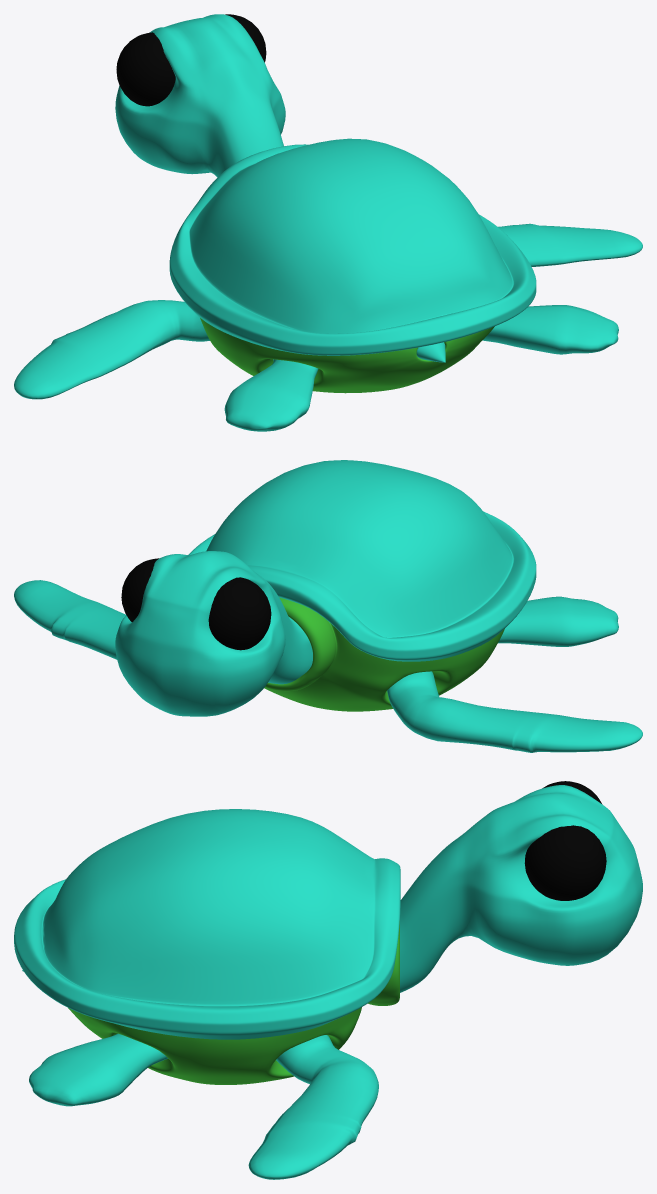
Rendered from tortuguita.fbx.
3 views of the same model, one above another, from view 1: azimuth 30°, elevation 25°; view 2: azimuth 150°, elevation 25°; view 3: azimuth 270°, elevation 25° (orthographic). The views are drawn at different scales.
Parts seen in each view (by area): view 1: caparazon superior, cabeza, aleta iz, caparazon inferior, pata iz001, pata iz, aleta der, ojoiz; view 2: caparazon superior, cabeza, aleta iz, caparazon inferior, aleta der, pata iz, ojoiz, ojod; view 3: caparazon superior, cabeza, aleta der, caparazon inferior, pata iz001, ojod.
Boxes of the visible parts, <box> form: caparazon superior: <box>169,138,536,355</box>; cabeza: <box>115,14,285,177</box>; aleta iz: <box>14,300,209,399</box>; caparazon inferior: <box>200,318,494,393</box>; pata iz001: <box>482,305,618,354</box>; pata iz: <box>224,359,318,431</box>; aleta der: <box>498,223,642,266</box>; ojoiz: <box>116,32,175,106</box>; caparazon superior: <box>188,460,536,661</box>; cabeza: <box>115,551,312,716</box>; aleta iz: <box>387,671,642,752</box>; caparazon inferior: <box>264,597,504,711</box>; aleta der: <box>14,580,126,659</box>; pata iz: <box>498,596,618,646</box>; ojoiz: <box>208,577,271,650</box>; ojod: <box>121,558,158,621</box>; caparazon superior: <box>14,809,400,1039</box>; cabeza: <box>400,785,642,992</box>; aleta der: <box>248,1035,378,1179</box>; caparazon inferior: <box>68,921,399,1084</box>; pata iz001: <box>29,1033,167,1106</box>; ojod: <box>524,825,606,900</box>.
Size of the model in its own units: 60.86 by 23.04 by 49.37.
